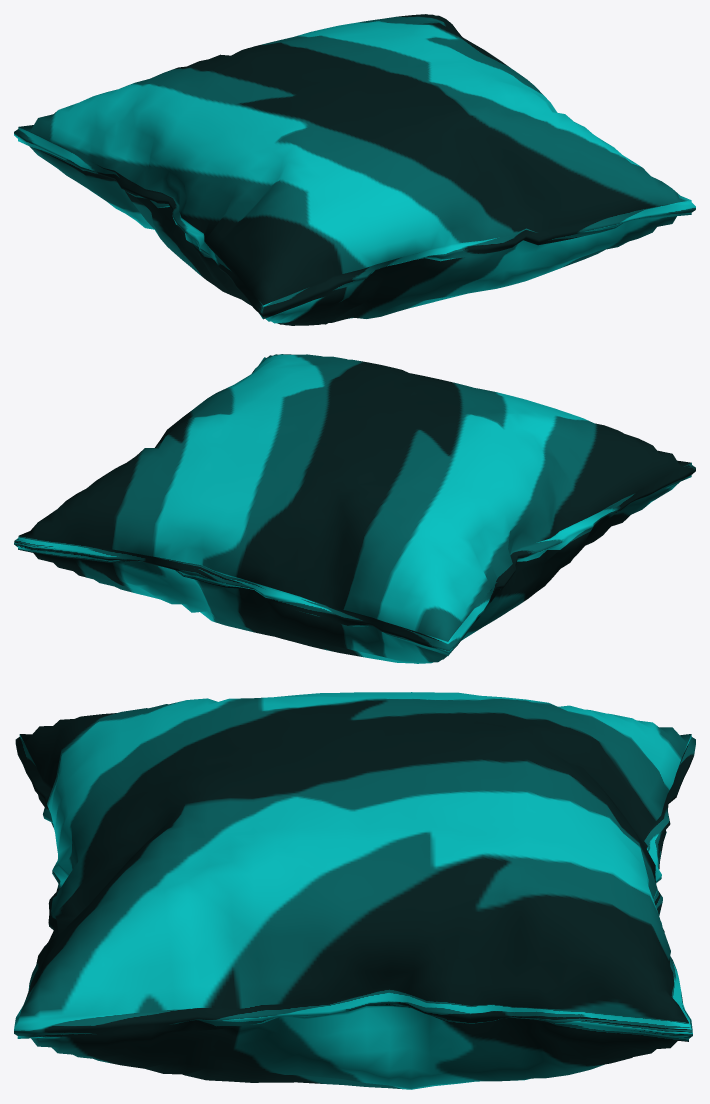
3 renders of one model, top to bottom at view 1: azimuth 30°, elevation 25°; view 2: azimuth 150°, elevation 25°; view 3: azimuth 270°, elevation 25°, orthographic. The views are drawn at different scales.
Parts seen in each view (by area): view 1: Cube; view 2: Cube; view 3: Cube.
Part boxes in pixels (box(x1,y1,x2,y2)): Cube: box(14, 14, 695, 325); Cube: box(14, 354, 695, 663); Cube: box(14, 692, 695, 1089).
Size of the model in its own units: 1.95 by 0.8063 by 1.92.
Materials: 1 (1 with a texture image).
